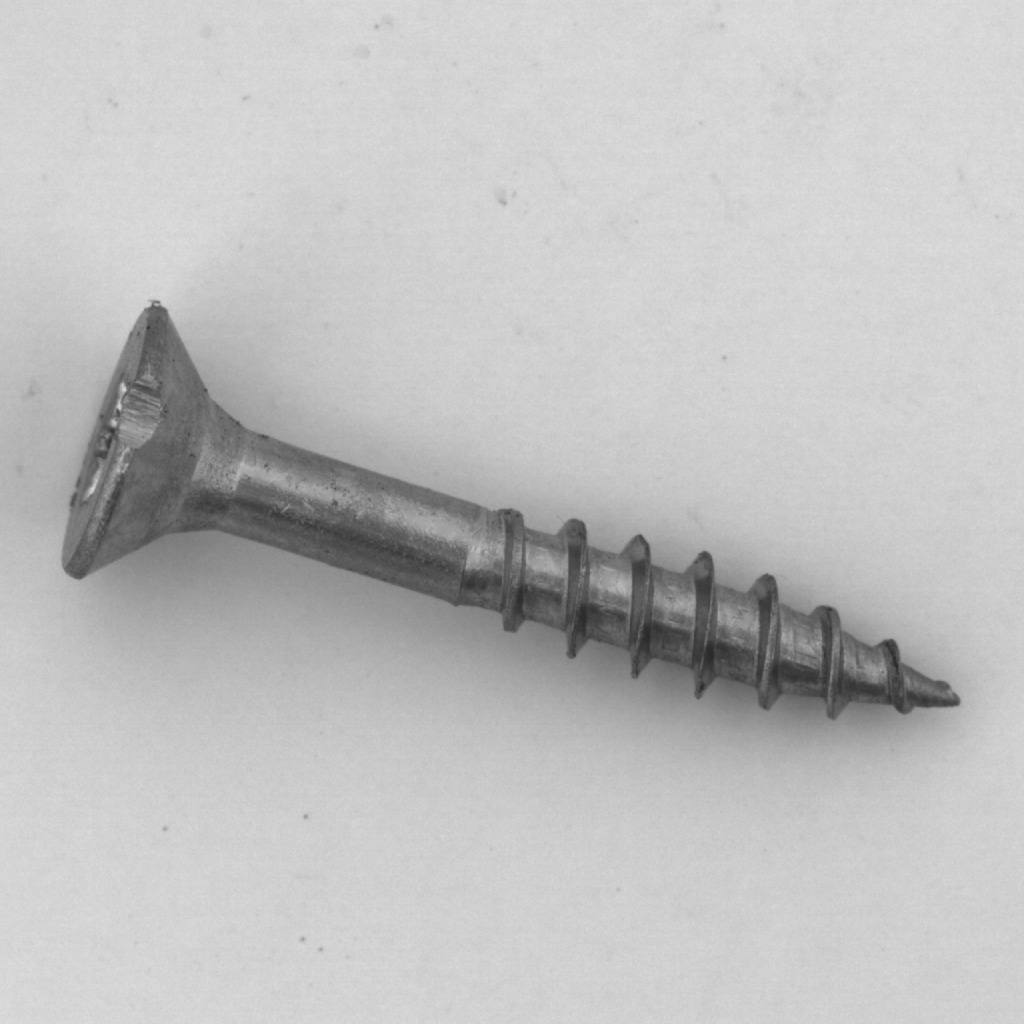scratch_head: (45, 334, 211, 515)
